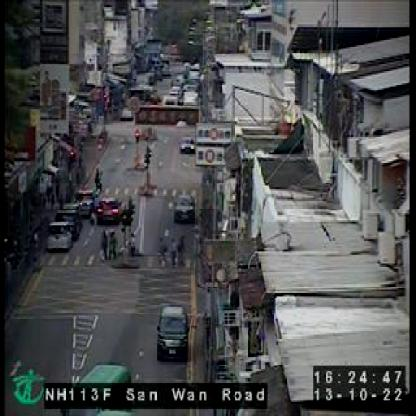Car: (157, 302, 188, 362), (97, 194, 126, 224), (48, 220, 73, 251), (74, 187, 95, 214), (176, 191, 194, 222), (181, 137, 195, 154)
